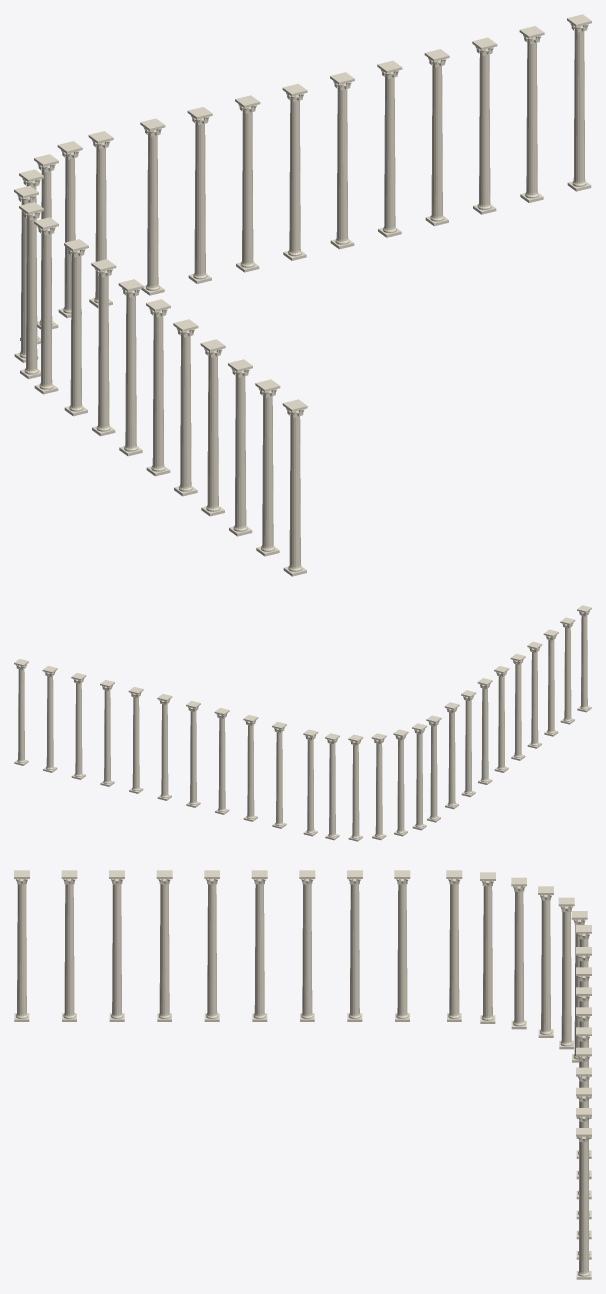
File: KOL_T1_GPO__03_Colonnades.fbx
The picture shows the model from 3 angles, top to bottom: view 1: azimuth 30°, elevation 25°; view 2: azimuth 150°, elevation 25°; view 3: azimuth 270°, elevation 25°; orthographic projection. The views are drawn at different scales.
Visible parts, largest first — view 1: KOL_T1_GPO__03_Colonnades__KOL_T1_HeritageWhite, KOL_T1_GPO__03_Colonnades__KOL_T1_HeritageWhite.001, KOL_T1_GPO__03_Colonnades__KOL_T1_HeritageWhite.002, KOL_T1_GPO__03_Colonnades__KOL_T1_HeritageWhite.003; view 2: KOL_T1_GPO__03_Colonnades__KOL_T1_HeritageWhite, KOL_T1_GPO__03_Colonnades__KOL_T1_HeritageWhite.002, KOL_T1_GPO__03_Colonnades__KOL_T1_HeritageWhite.001, KOL_T1_GPO__03_Colonnades__KOL_T1_HeritageWhite.003; view 3: KOL_T1_GPO__03_Colonnades__KOL_T1_HeritageWhite.002, KOL_T1_GPO__03_Colonnades__KOL_T1_HeritageWhite.001, KOL_T1_GPO__03_Colonnades__KOL_T1_HeritageWhite.003, KOL_T1_GPO__03_Colonnades__KOL_T1_HeritageWhite.
Boxes of the visible parts, bbox=[...] form: KOL_T1_GPO__03_Colonnades__KOL_T1_HeritageWhite: bbox=[140, 37, 497, 295]; KOL_T1_GPO__03_Colonnades__KOL_T1_HeritageWhite.001: bbox=[64, 14, 591, 516]; KOL_T1_GPO__03_Colonnades__KOL_T1_HeritageWhite.002: bbox=[14, 169, 307, 576]; KOL_T1_GPO__03_Colonnades__KOL_T1_HeritageWhite.003: bbox=[27, 131, 113, 329]; KOL_T1_GPO__03_Colonnades__KOL_T1_HeritageWhite: bbox=[71, 673, 286, 828]; KOL_T1_GPO__03_Colonnades__KOL_T1_HeritageWhite.002: bbox=[371, 605, 591, 840]; KOL_T1_GPO__03_Colonnades__KOL_T1_HeritageWhite.001: bbox=[14, 653, 541, 809]; KOL_T1_GPO__03_Colonnades__KOL_T1_HeritageWhite.003: bbox=[303, 729, 384, 841]; KOL_T1_GPO__03_Colonnades__KOL_T1_HeritageWhite.002: bbox=[14, 870, 553, 1037]; KOL_T1_GPO__03_Colonnades__KOL_T1_HeritageWhite.001: bbox=[157, 870, 591, 1279]; KOL_T1_GPO__03_Colonnades__KOL_T1_HeritageWhite.003: bbox=[540, 895, 591, 1076]; KOL_T1_GPO__03_Colonnades__KOL_T1_HeritageWhite: bbox=[576, 947, 591, 1239].
Bounding box in the file's own units: 145 × 37.05 × 134.
